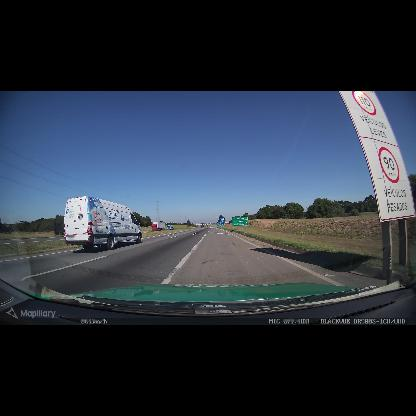R-19: (338, 91, 416, 222)
